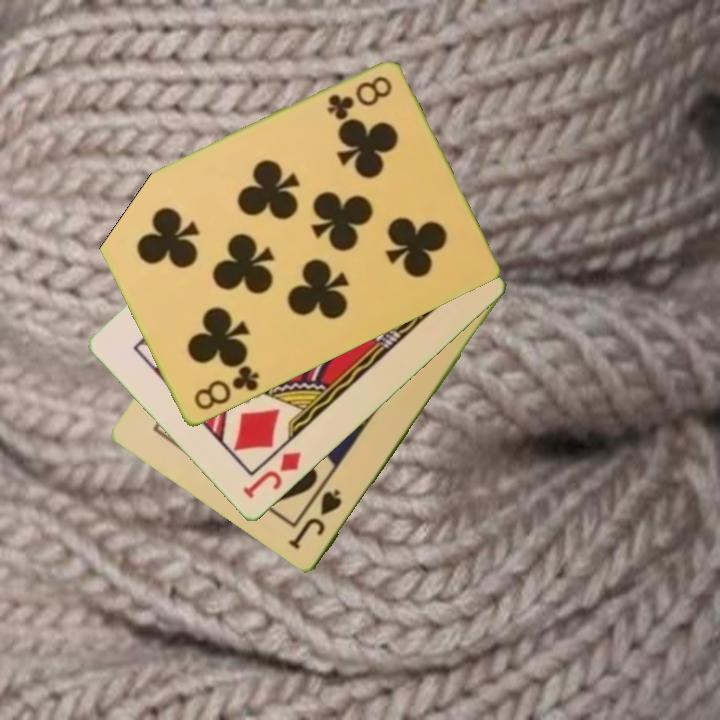8c: (190, 362, 262, 414), (323, 72, 395, 123)
Jd: (239, 448, 305, 503)
Js: (286, 486, 345, 553)
